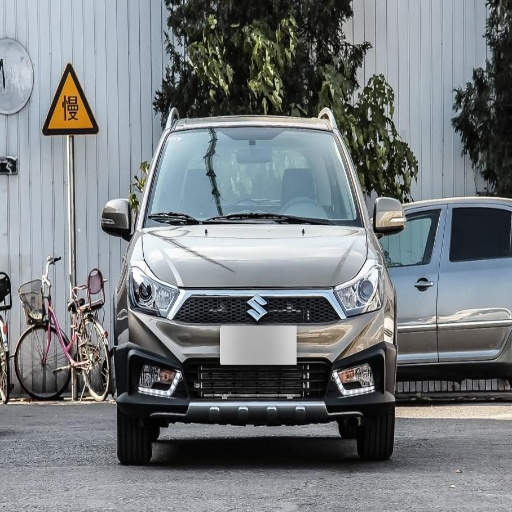front_bumper: (107, 287, 397, 426)
front_glass: (145, 126, 362, 226)
front_left_door: (402, 272, 438, 363)
front_right_light: (129, 266, 177, 317)
hood: (139, 225, 369, 287)
left_mirror: (373, 198, 407, 237)
